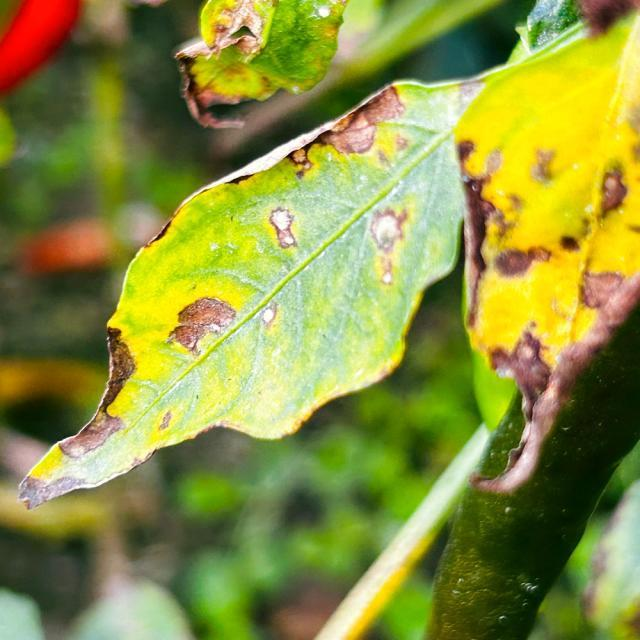Bercak Daun Serkospora: (21, 73, 466, 515), (453, 1, 640, 496)
